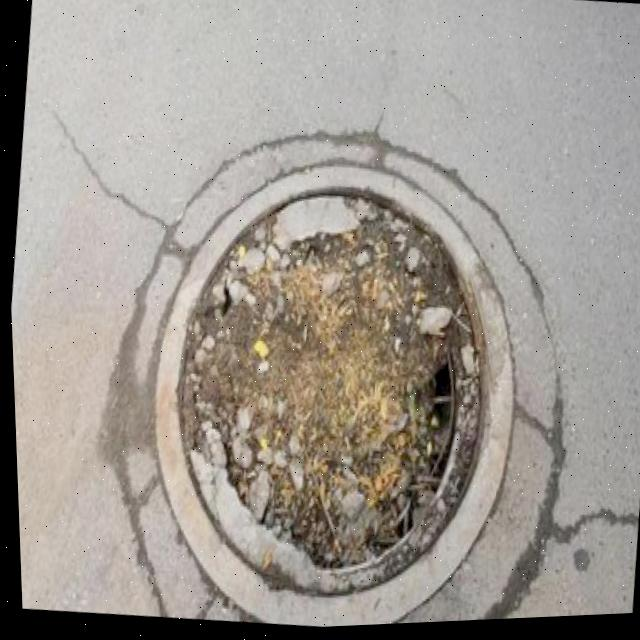manhole: (113, 120, 529, 636)
